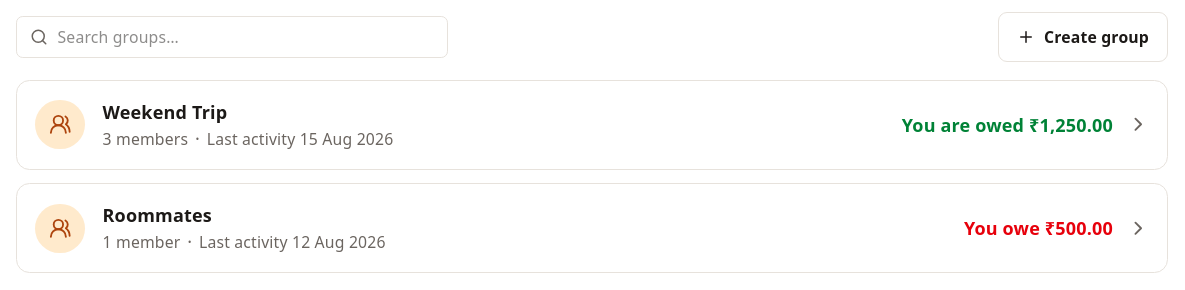
Test: GroupsPage › search › filters groups by group name
This screenshot has width=1185, height=290.
Type "weekend" into the search field labelled "Search groups…" at (232, 37), box [16,16,448,58]
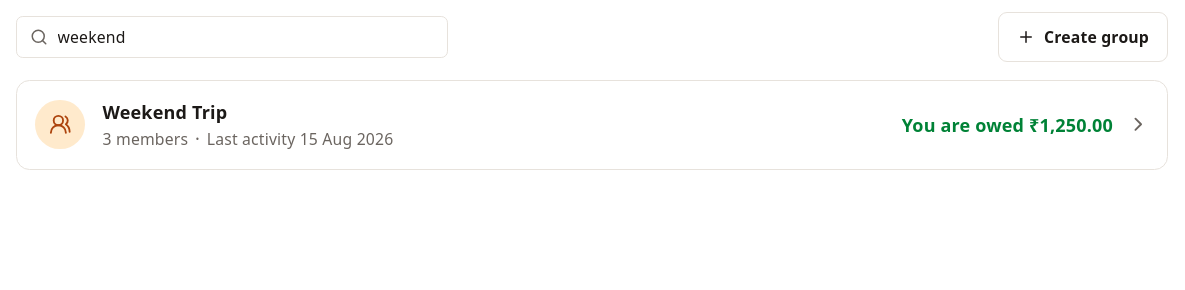
Check: the text "Weekend Trip" is shown, box [102,100,227,124]
Check: the link "Roommates" is gone
